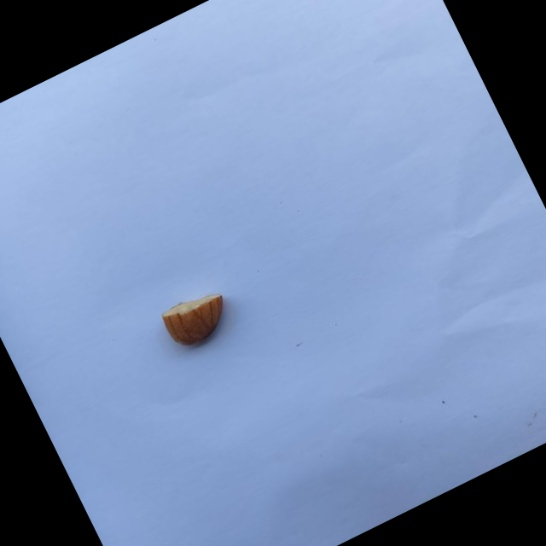grade4: (152, 279, 245, 361)
